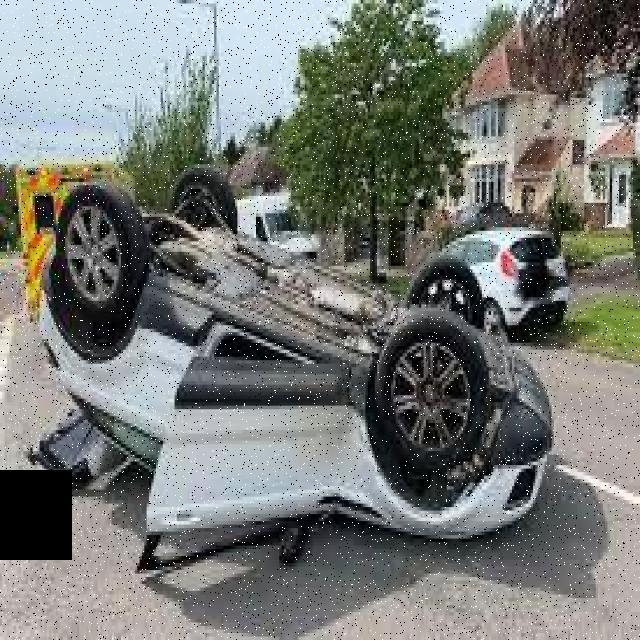severe: (29, 156, 558, 578)
